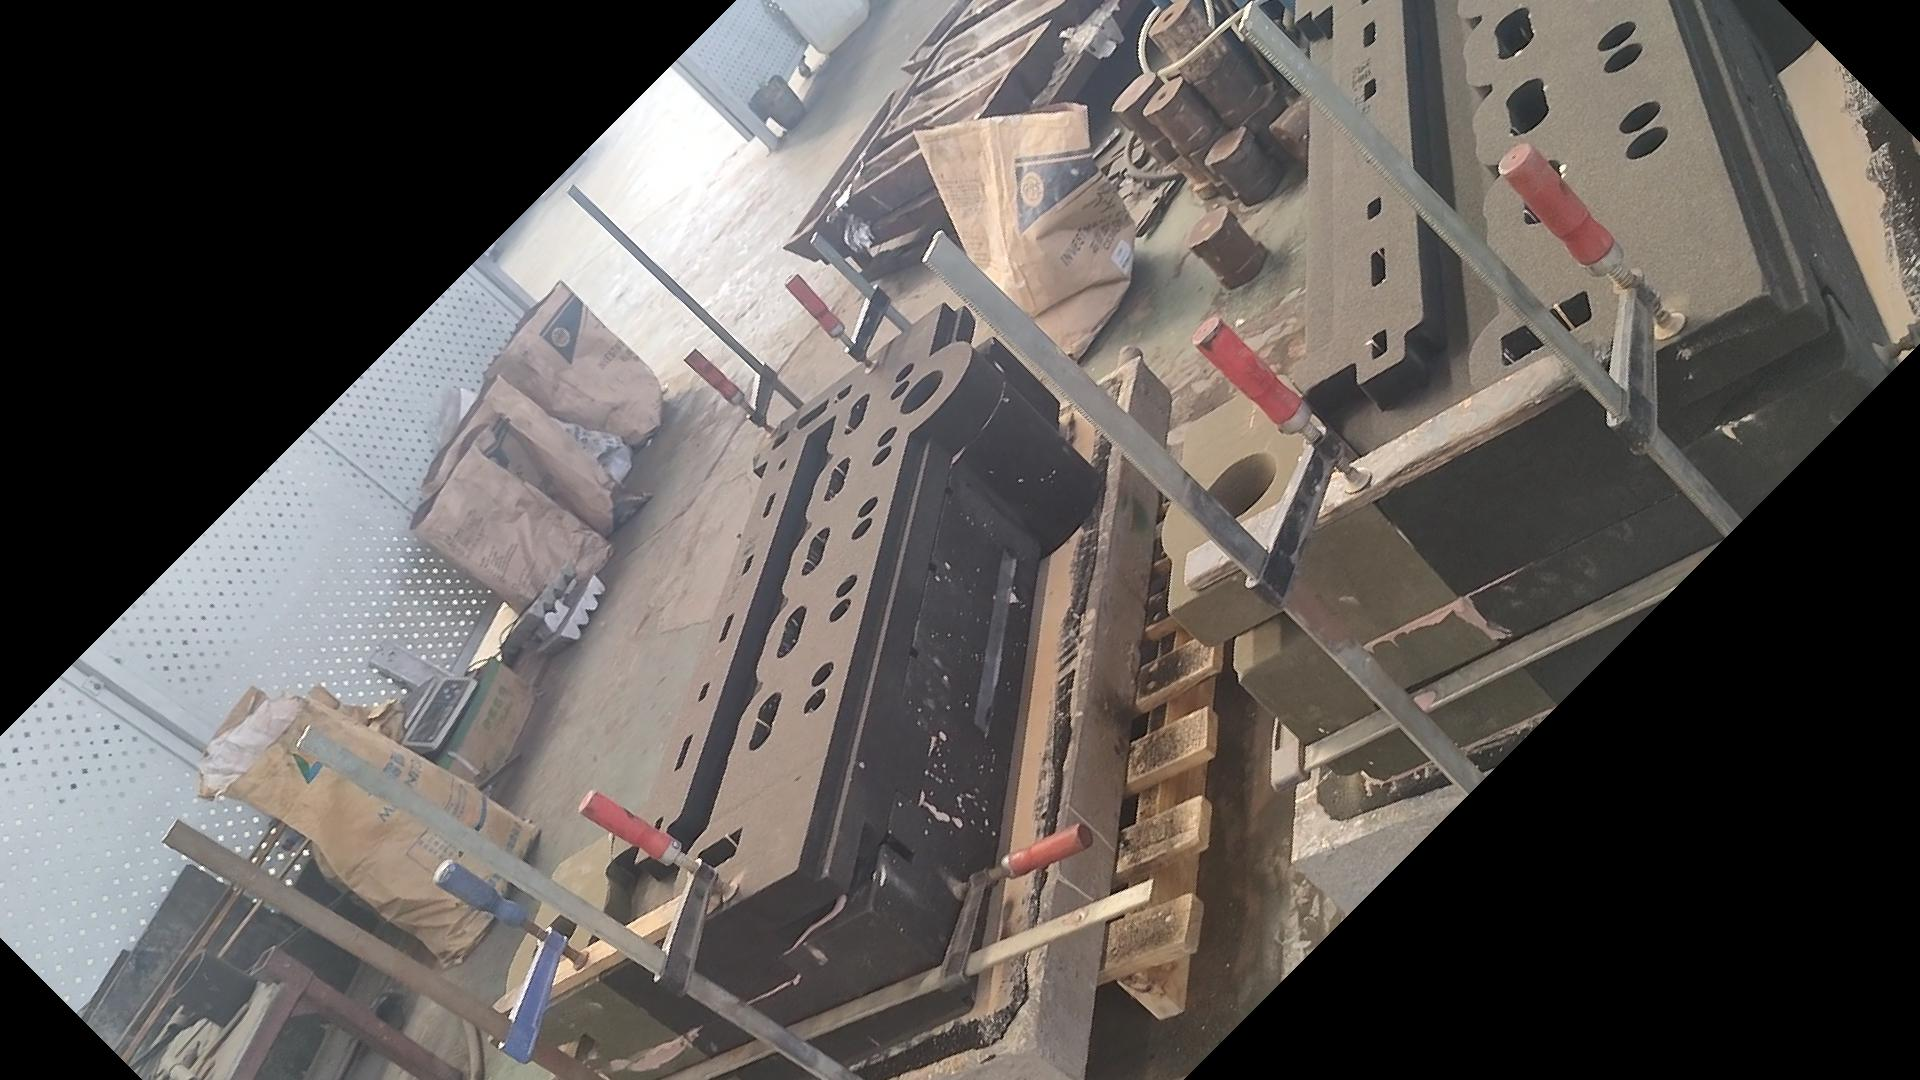pouring hole: (1200, 452, 1276, 521), (531, 907, 582, 969), (899, 369, 942, 414), (167, 949, 204, 1000)
